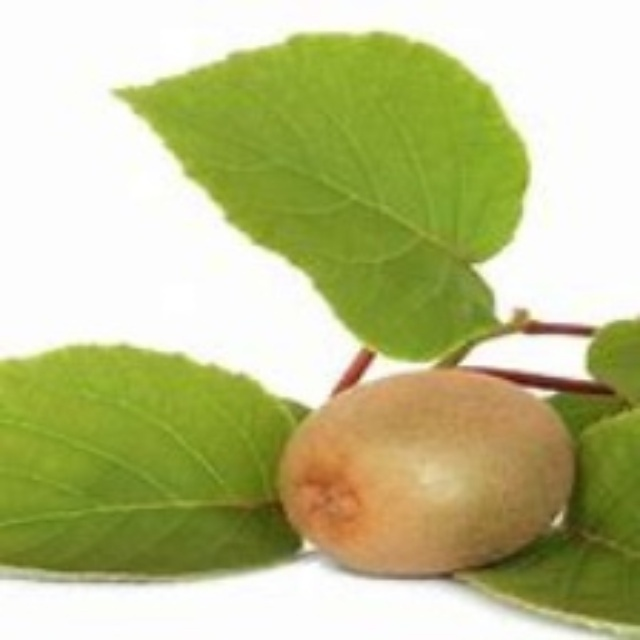kiwi: (270, 376, 583, 583)
